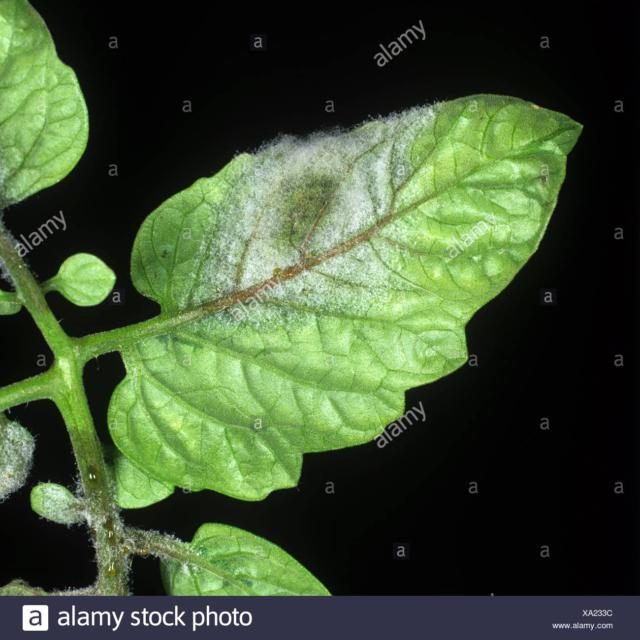Late_blight: (163, 96, 446, 339), (1, 422, 38, 503), (32, 478, 79, 530)
